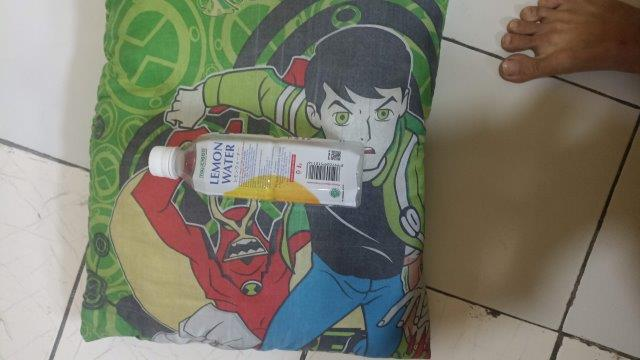botolplastik: (147, 134, 365, 209)
